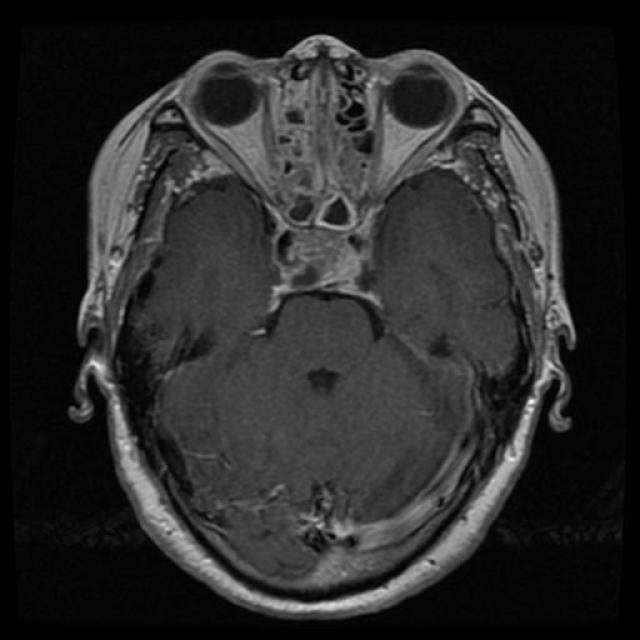pituitary: (270, 220, 392, 320)
